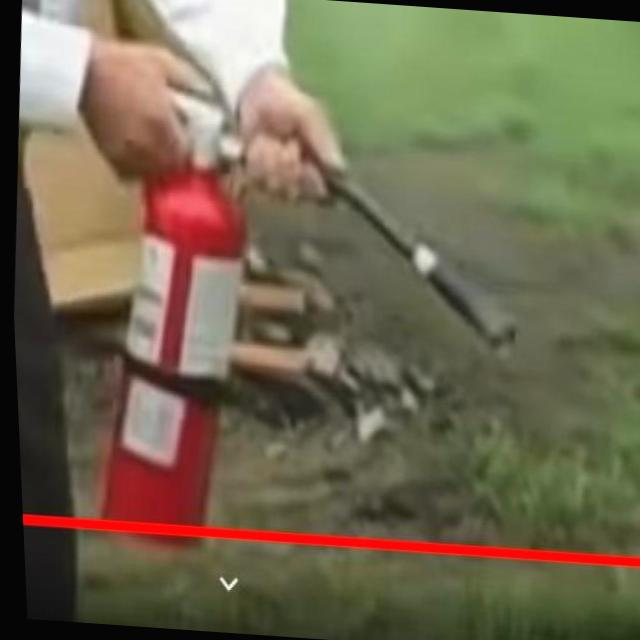FireExtinguisher: (60, 42, 546, 576)
